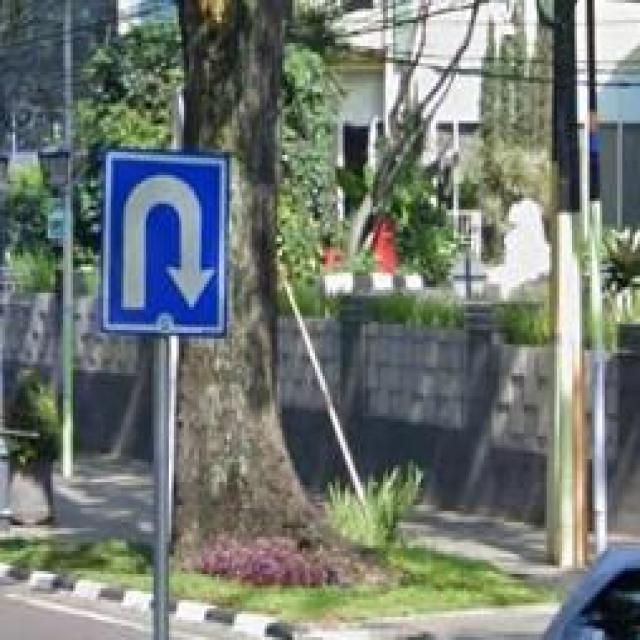traffic sign: (101, 149, 230, 338)
